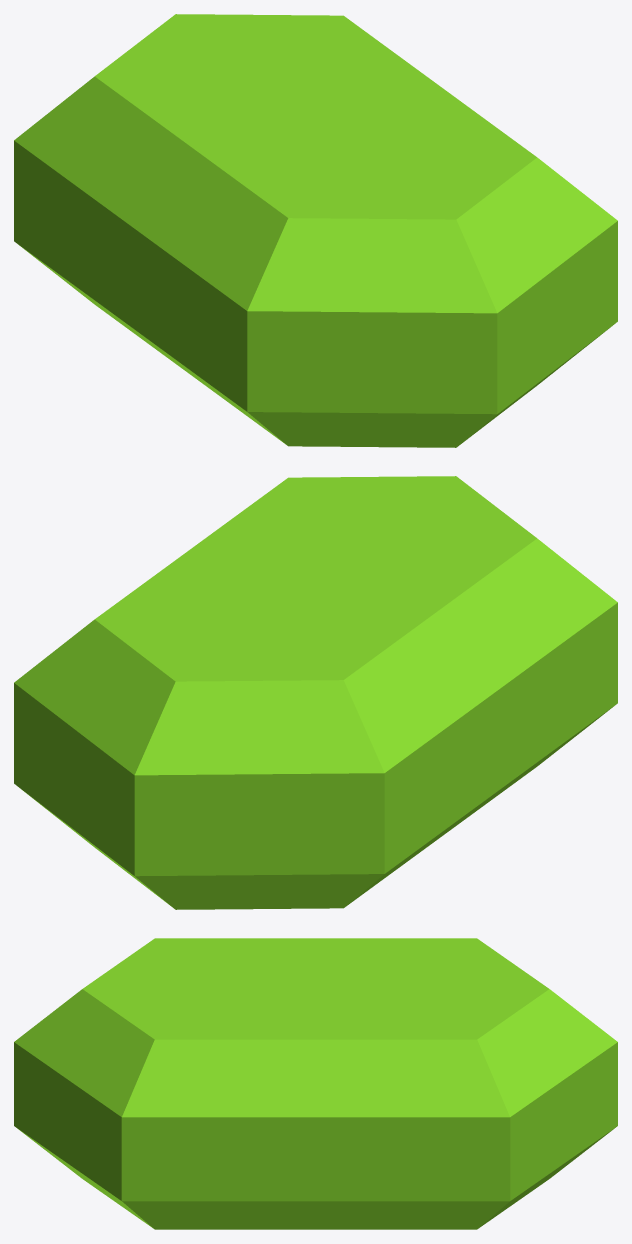
File: Crystal_Green_C.fbx
The picture shows the model from 3 angles, top to bottom: view 1: azimuth 30°, elevation 25°; view 2: azimuth 150°, elevation 25°; view 3: azimuth 270°, elevation 25°; orthographic projection. The views are drawn at different scales.
Parts seen in each view (by area): view 1: Crystal_Green_C; view 2: Crystal_Green_C; view 3: Crystal_Green_C.
Part boxes in pixels (x1=…): Crystal_Green_C: x1=14, y1=14, x2=617, y2=447; Crystal_Green_C: x1=14, y1=476, x2=617, y2=909; Crystal_Green_C: x1=14, y1=938, x2=617, y2=1229.
Bounding box in the file's own units: 85.49 × 50.3 × 145.
